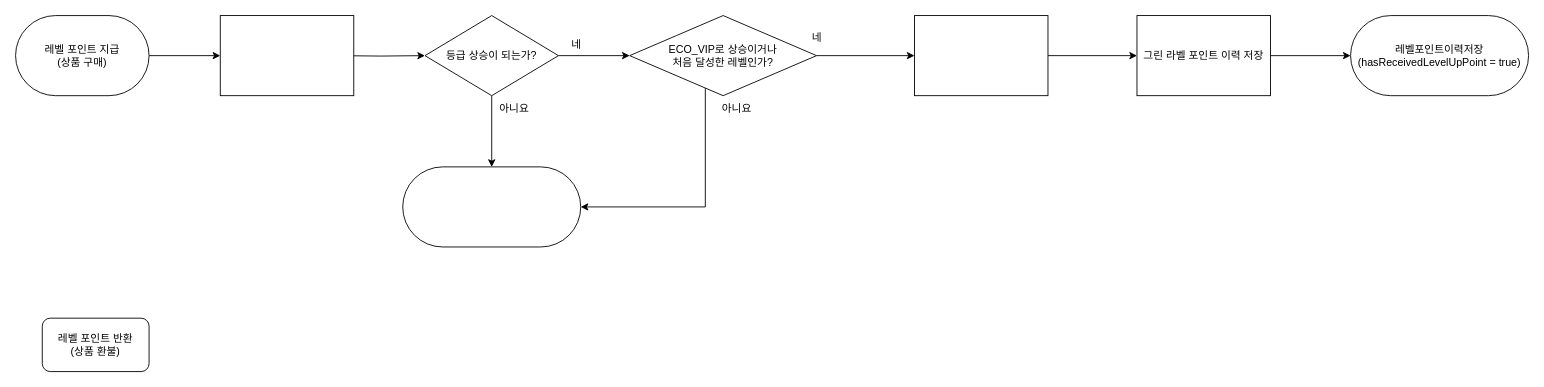
This 1544x387 diagram has some shape labels left out. The centre of each missing label's shape, as x and y in pixels:
"달성 그린 라벨 포인트 지급" belongs at (981,55).
"레벨 포인트 지급" belongs at (286,55).
"레벨포인트이력저장 (hasReceivedLevelUpPoint = false)" belongs at (491,206).
